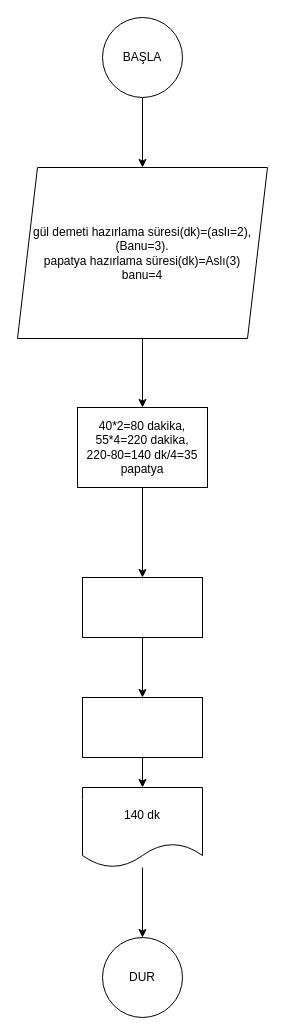
The diagram is 285 pixels wide and 1035 high, and some of its shapes have lost their labels. The box of each missing label's shape, as (x1, y1, x2, y2) in pixels:
12 dakikada 7 papatya biteceğine göre 35/7=5*12=60 dk: (82, 576, 202, 638)
80+60=140 dk: (82, 696, 202, 758)
